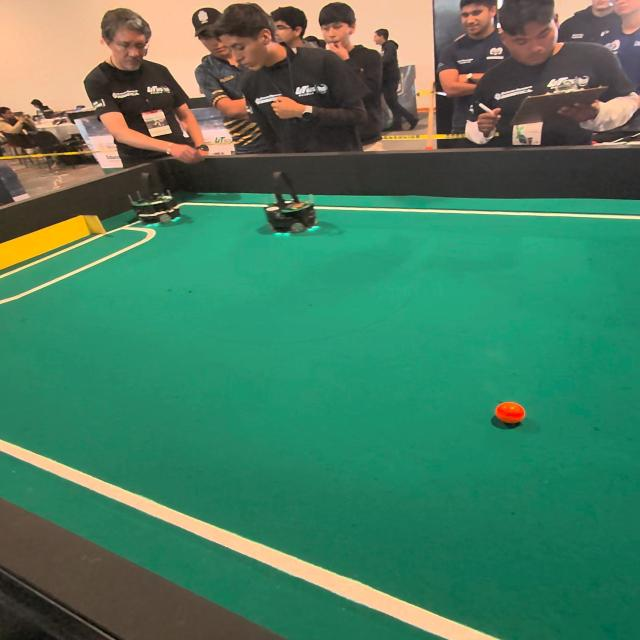Robot: (123, 161, 188, 232), (264, 169, 321, 242)
pelota: (494, 401, 526, 429)
